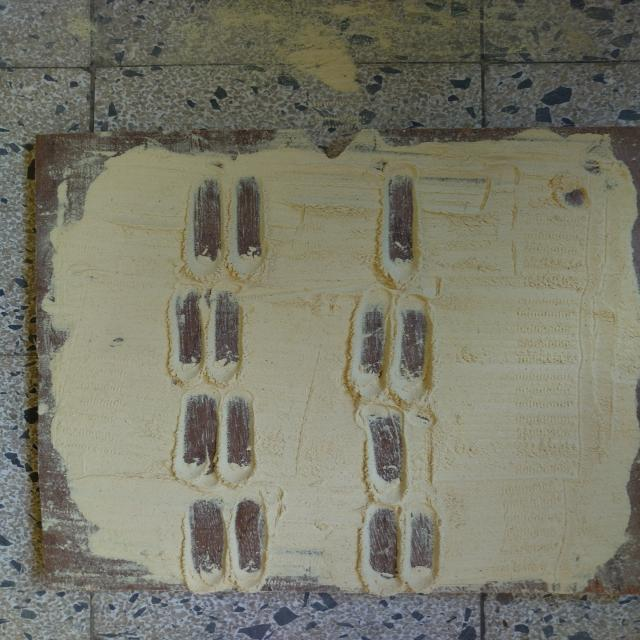double: (339, 288, 441, 403), (178, 486, 278, 596), (176, 173, 273, 285), (170, 384, 262, 492), (158, 284, 250, 387), (354, 499, 446, 599)
single: (350, 398, 420, 506), (372, 160, 426, 288)
